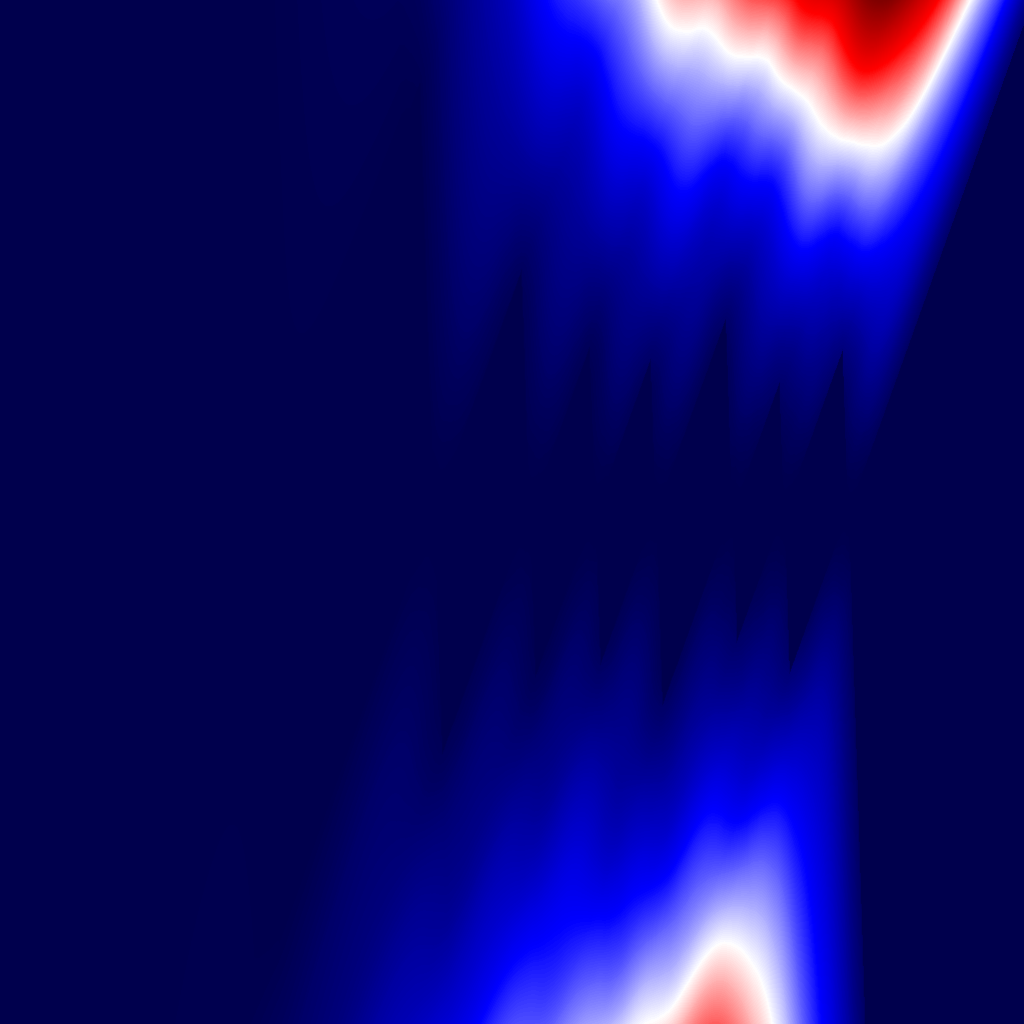diamond: (270, 81, 438, 943), (438, 268, 533, 756), (660, 317, 736, 707), (533, 345, 598, 679), (788, 348, 852, 676), (599, 357, 659, 667), (736, 381, 787, 643)
